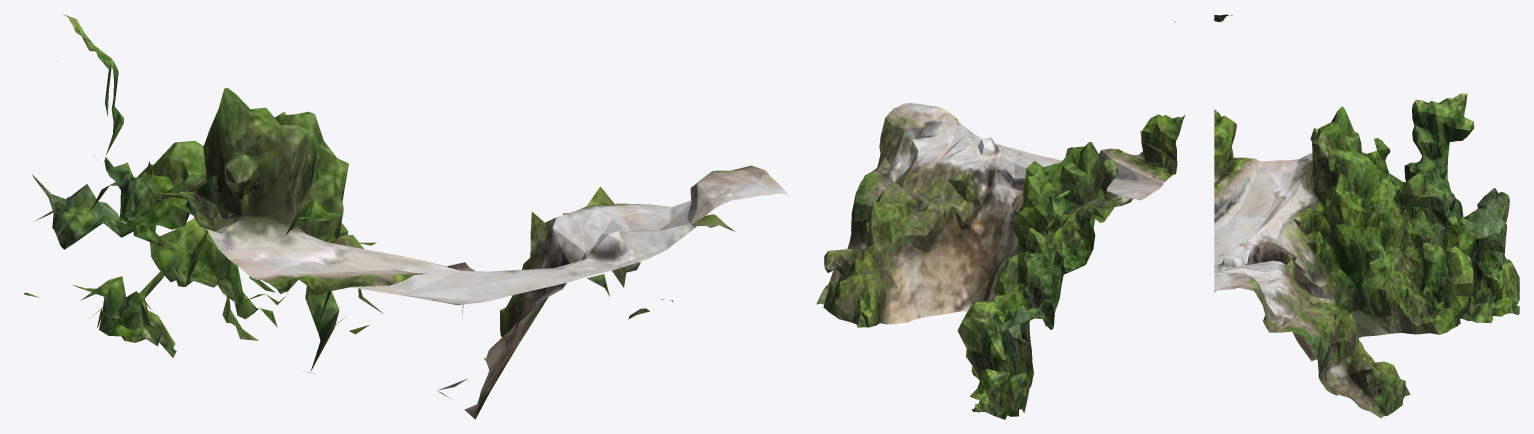
The picture shows the model from 3 angles, left to right: view 1: azimuth 30°, elevation 25°; view 2: azimuth 150°, elevation 25°; view 3: azimuth 270°, elevation 25°; orthographic projection. The views are drawn at different scales.
Bounding box in the file's own units: 26.11 × 26.11 × 26.11.
Materials: 4 (4 with a texture image).
